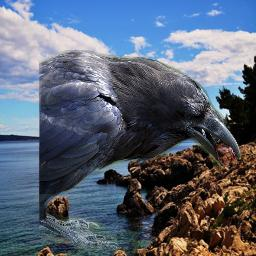Crow: (39, 50, 241, 250)
